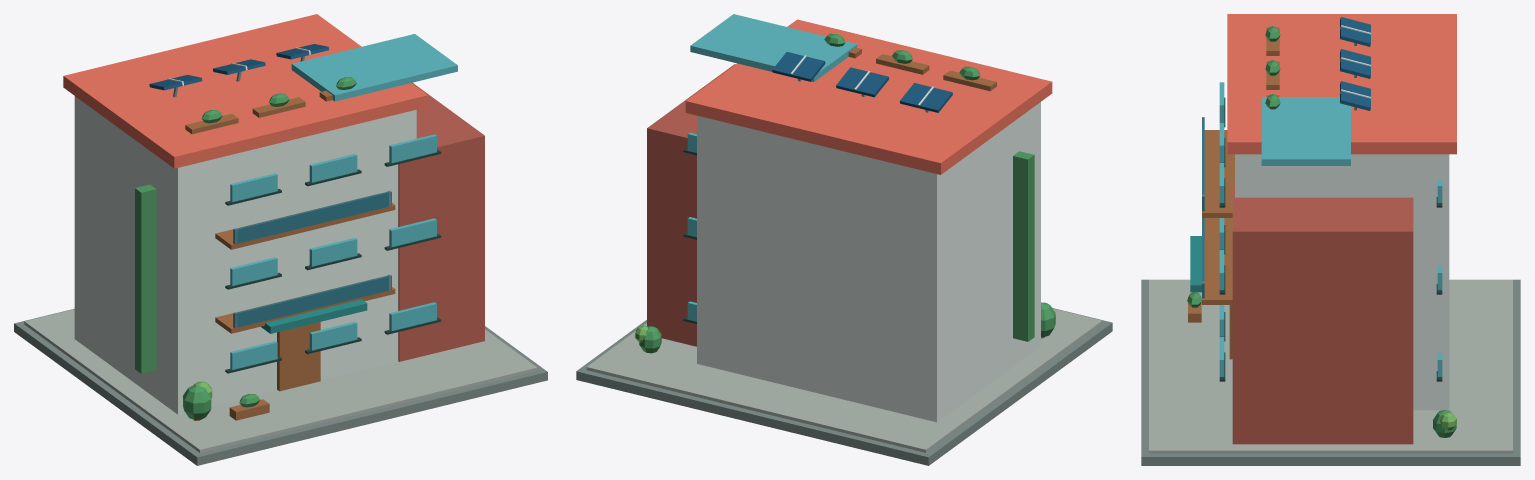
Rendered from house_lv6.glb.
3 views of the same model, side by side, from view 1: azimuth 30°, elevation 25°; view 2: azimuth 150°, elevation 25°; view 3: azimuth 270°, elevation 25° (orthographic). The views are drawn at different scales.
Visible parts, largest first — view 1: white, coral, brick, concrete, glass, pavement, wood, green, glassDark, dark, solar, teal; view 2: white, coral, concrete, brick, pavement, glass, green, solar, wood; view 3: brick, concrete, coral, white, glass, pavement, wood, solar, green, teal, dark, glassDark.
Part boxes in pixels (x1=…): white: x1=74, y1=47, x2=416, y2=414; coral: x1=63, y1=14, x2=427, y2=168; brick: x1=398, y1=82, x2=484, y2=361; concrete: x1=24, y1=309, x2=537, y2=452; glass: x1=230, y1=34, x2=457, y2=369; pavement: x1=14, y1=308, x2=547, y2=465; wood: x1=185, y1=90, x2=395, y2=420; green: x1=135, y1=77, x2=356, y2=419; glassDark: x1=233, y1=191, x2=391, y2=328; dark: x1=225, y1=150, x2=441, y2=373; solar: x1=149, y1=44, x2=328, y2=90; teal: x1=261, y1=299, x2=367, y2=333; white: x1=697, y1=55, x2=1040, y2=422; coral: x1=685, y1=19, x2=1052, y2=174; concrete: x1=586, y1=308, x2=1102, y2=452; brick: x1=647, y1=64, x2=735, y2=346; pavement: x1=576, y1=308, x2=1112, y2=465; glass: x1=687, y1=14, x2=857, y2=321; green: x1=639, y1=33, x2=1055, y2=353; solar: x1=772, y1=52, x2=952, y2=112; wood: x1=848, y1=47, x2=1044, y2=338; brick: x1=1232, y1=188, x2=1413, y2=444; concrete: x1=1149, y1=279, x2=1512, y2=453; coral: x1=1227, y1=14, x2=1456, y2=154; white: x1=1235, y1=25, x2=1449, y2=410; glass: x1=1219, y1=82, x2=1442, y2=376; pavement: x1=1141, y1=279, x2=1520, y2=465; wood: x1=1188, y1=27, x2=1279, y2=359; solar: x1=1340, y1=17, x2=1370, y2=110; green: x1=1187, y1=26, x2=1456, y2=437; teal: x1=1190, y1=236, x2=1201, y2=292; dark: x1=1219, y1=97, x2=1442, y2=381; glassDark: x1=1202, y1=118, x2=1204, y2=298.
Size of the model in its own units: 9.4 by 7.53 by 8.5.
